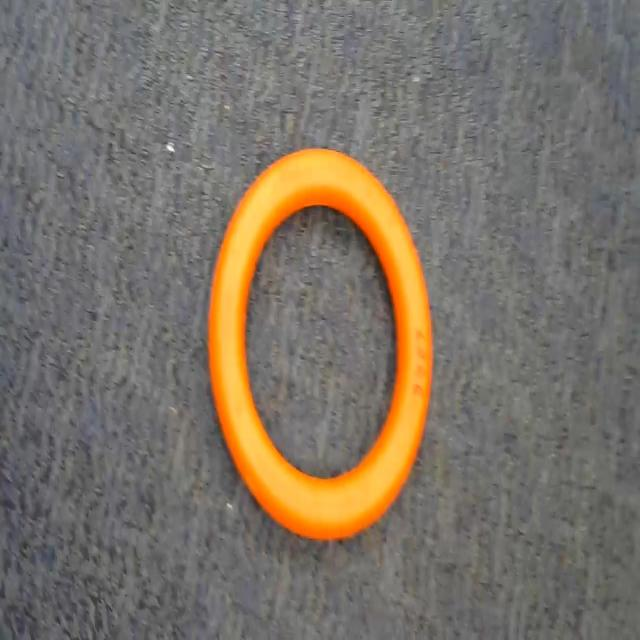note: (201, 142, 437, 542)
